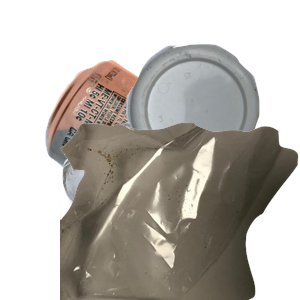glass: (60, 120, 300, 300)
metal: (43, 58, 283, 238)
plastic: (124, 42, 300, 210)
trash: (60, 120, 300, 300)
